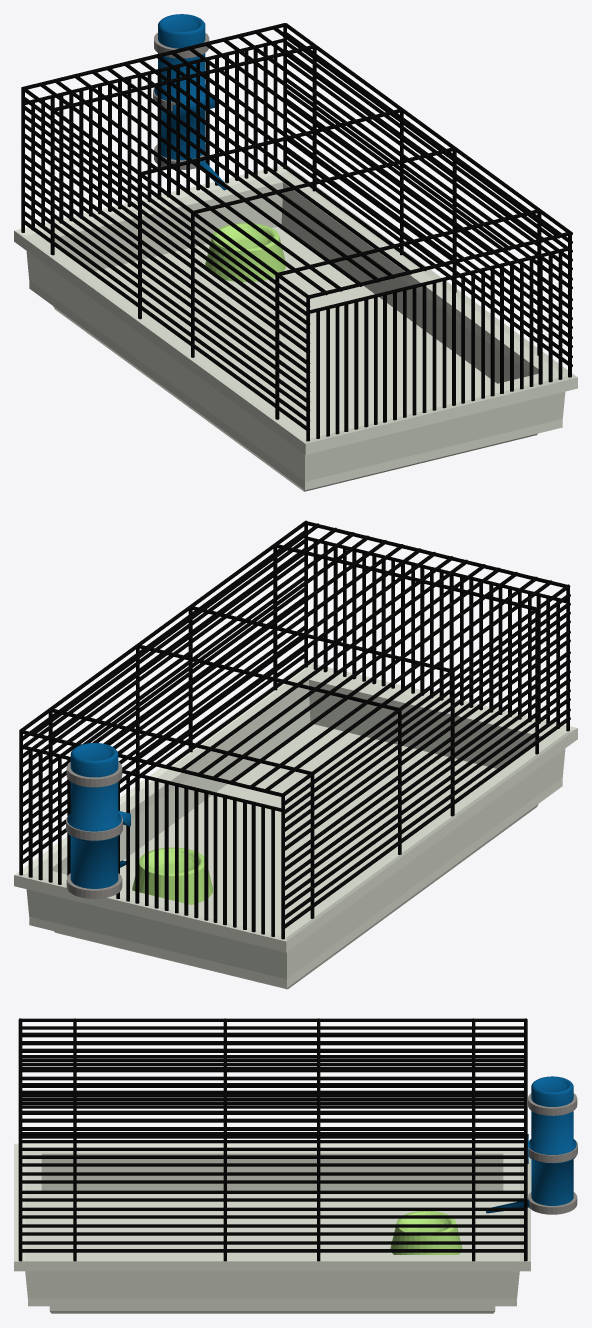
Rendered from HamsterCage.fbx.
3 views of the same model, one above another, from view 1: azimuth 30°, elevation 25°; view 2: azimuth 150°, elevation 25°; view 3: azimuth 270°, elevation 25° (orthographic). The views are drawn at different scales.
Visible parts, largest first — view 1: Cube, Cylinder.077, Cylinder.010, Cylinder.040, Cylinder.061, Cylinder; view 2: Cube, Cylinder.077, Cylinder.040, Cylinder.010, Cylinder.061, Cylinder, Cylinder.003, Cylinder.002, Cylinder.001; view 3: Cylinder.077, Cube, Cylinder.061, Cylinder, Cylinder.010, Cylinder.040, Cylinder.003, Cylinder.002, Cylinder.001.
Part boxes in pixels (x1,y1,x2,y2): Cube: (14,165,577,491); Cylinder.077: (21,23,572,431); Cylinder.010: (306,231,571,441); Cylinder.040: (21,23,286,232); Cylinder.061: (154,14,226,190); Cylinder: (205,223,285,282); Cube: (14,663,577,989); Cylinder.077: (19,520,570,928); Cylinder.040: (19,729,284,939); Cylinder.010: (304,521,569,731); Cylinder.061: (67,743,130,888); Cylinder: (132,847,212,904); Cylinder.003: (66,762,122,787); Cylinder.002: (66,873,122,898); Cylinder.001: (66,815,122,840); Cylinder.077: (19,1018,525,1261); Cube: (14,1143,530,1313); Cylinder.061: (486,1076,576,1213); Cylinder: (390,1211,462,1254); Cylinder.010: (18,1018,22,1261); Cylinder.040: (524,1018,527,1261); Cylinder.003: (528,1093,577,1115); Cylinder.002: (528,1192,577,1214); Cylinder.001: (528,1140,577,1162).
Size of the model in its own units: 553 by 434 by 1117.
